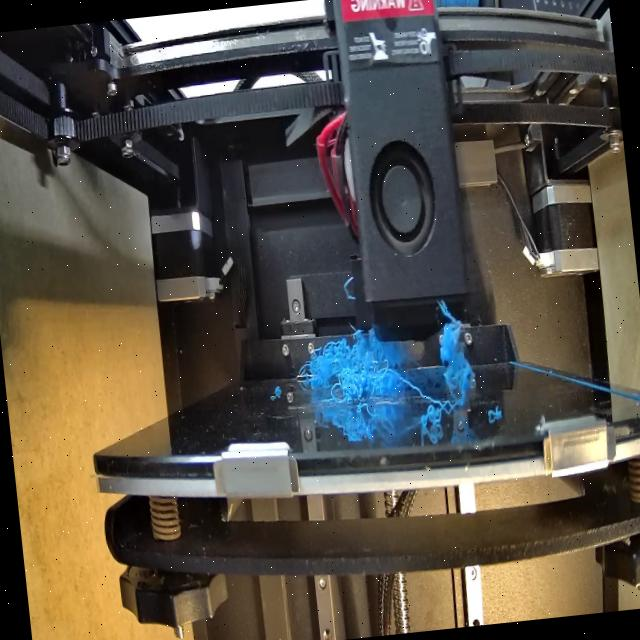spaghetti: (300, 333, 389, 400), (432, 322, 478, 410), (419, 388, 448, 425)
